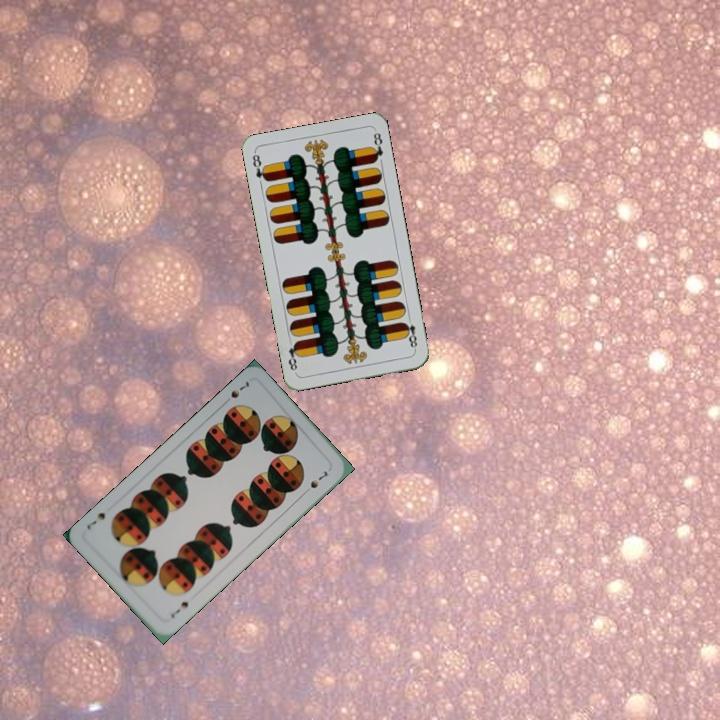E8: (399, 313, 420, 353), (248, 149, 271, 184)
S7: (219, 377, 252, 407), (167, 597, 191, 621)
